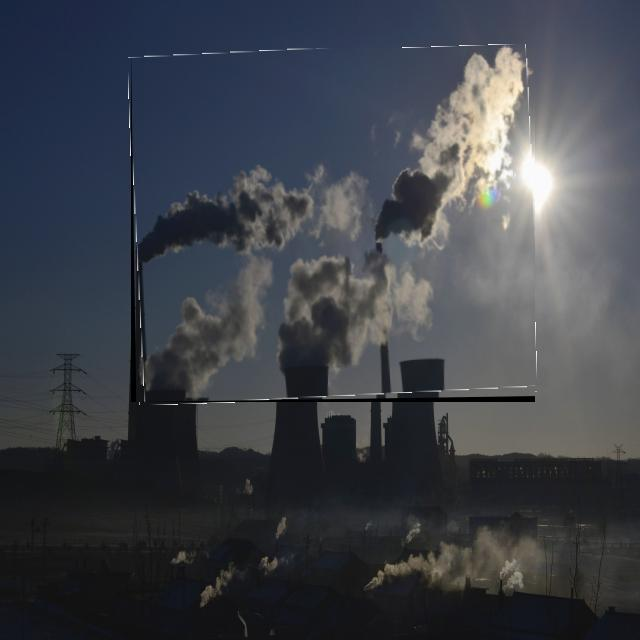smoke: (375, 49, 524, 246), (277, 257, 432, 370), (138, 167, 305, 270), (148, 257, 273, 393), (307, 165, 373, 248)
